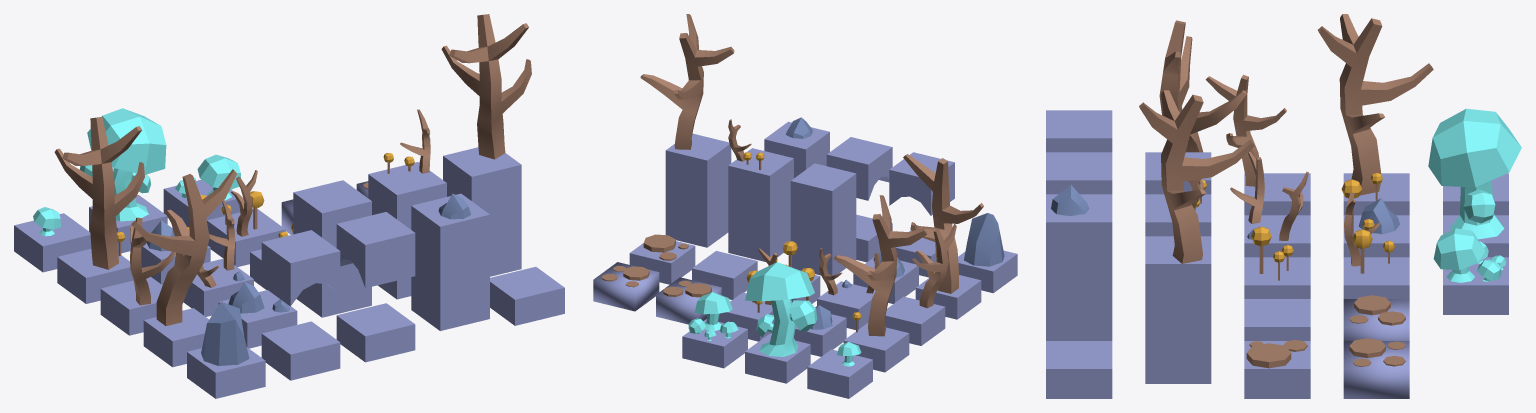
File: tileset.fbx
3 views of the same model, side by side, from view 1: azimuth 30°, elevation 25°; view 2: azimuth 150°, elevation 25°; view 3: azimuth 270°, elevation 25° (orthographic). The views are drawn at different scales.
Parts seen in each view (by area): view 1: tallWTree, tallWRock, archX, treeLarge2, archY, treeLarge, tall, mushroomLarge, rockLarge, tallwPlants, treeMedium, Cube.067 (+7 smaller); view 2: tallWTree, tallwPlants, tall, mushroomLarge, treeLarge2, treeLarge, treeMedium, archX, mushrooms, rockLarge, archY, path2 (+11 smaller); view 3: tallWTree, tallWRock, mushroomLarge, treeLarge2, mushrooms, path2, treeMedium, path1, Cube.067, treeSmallWFlowers, treesSmall, flowers (+9 smaller).
Boxes of the visible parts, x1,y1,x2,y2 form: tallWTree: [441, 14, 531, 276]; tallWRock: [411, 193, 489, 330]; archX: [336, 212, 415, 362]; treeLarge2: [54, 117, 144, 303]; archY: [261, 230, 340, 380]; treeLarge: [131, 169, 236, 367]; tall: [293, 180, 371, 317]; mushroomLarge: [80, 108, 167, 253]; rockLarge: [187, 301, 265, 398]; tallwPlants: [368, 109, 446, 299]; treeMedium: [100, 217, 175, 335]; Cube.067: [490, 266, 564, 325]; tallWTree: [640, 14, 734, 247]; tallwPlants: [728, 119, 793, 261]; tall: [790, 163, 856, 275]; mushroomLarge: [745, 262, 817, 383]; treeLarge2: [833, 195, 927, 372]; treeLarge: [903, 154, 983, 319]; treeMedium: [885, 224, 956, 345]; archX: [826, 137, 892, 262]; mushrooms: [682, 292, 747, 368]; rockLarge: [958, 213, 1017, 293]; archY: [889, 152, 954, 277]; path2: [593, 262, 659, 311]; tallWTree: [1139, 90, 1254, 383]; tallWRock: [1046, 185, 1112, 340]; mushroomLarge: [1428, 108, 1521, 257]; treeLarge2: [1318, 14, 1433, 215]; mushrooms: [1433, 228, 1508, 314]; path2: [1343, 338, 1409, 398]; treeMedium: [1205, 74, 1310, 215]; path1: [1244, 340, 1310, 398]; Cube.067: [1046, 341, 1112, 398]; treeSmallWFlowers: [1343, 192, 1409, 298]; treesSmall: [1230, 152, 1310, 257]; flowers: [1244, 226, 1310, 298].
Size of the model in its own units: 1627 by 991 by 1439.
